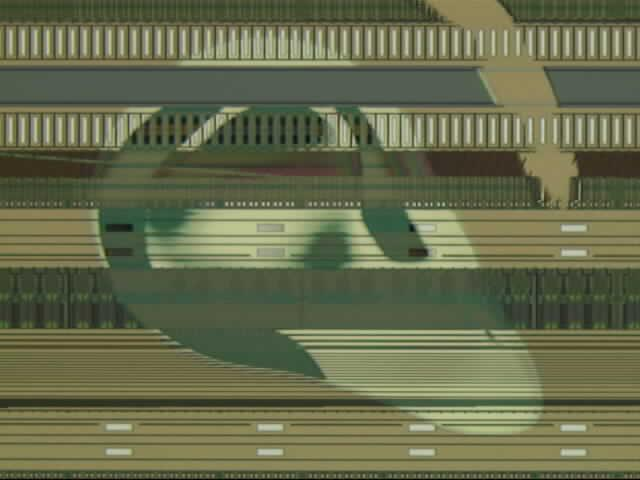BLOCK ETCH: (88, 1, 583, 442)
